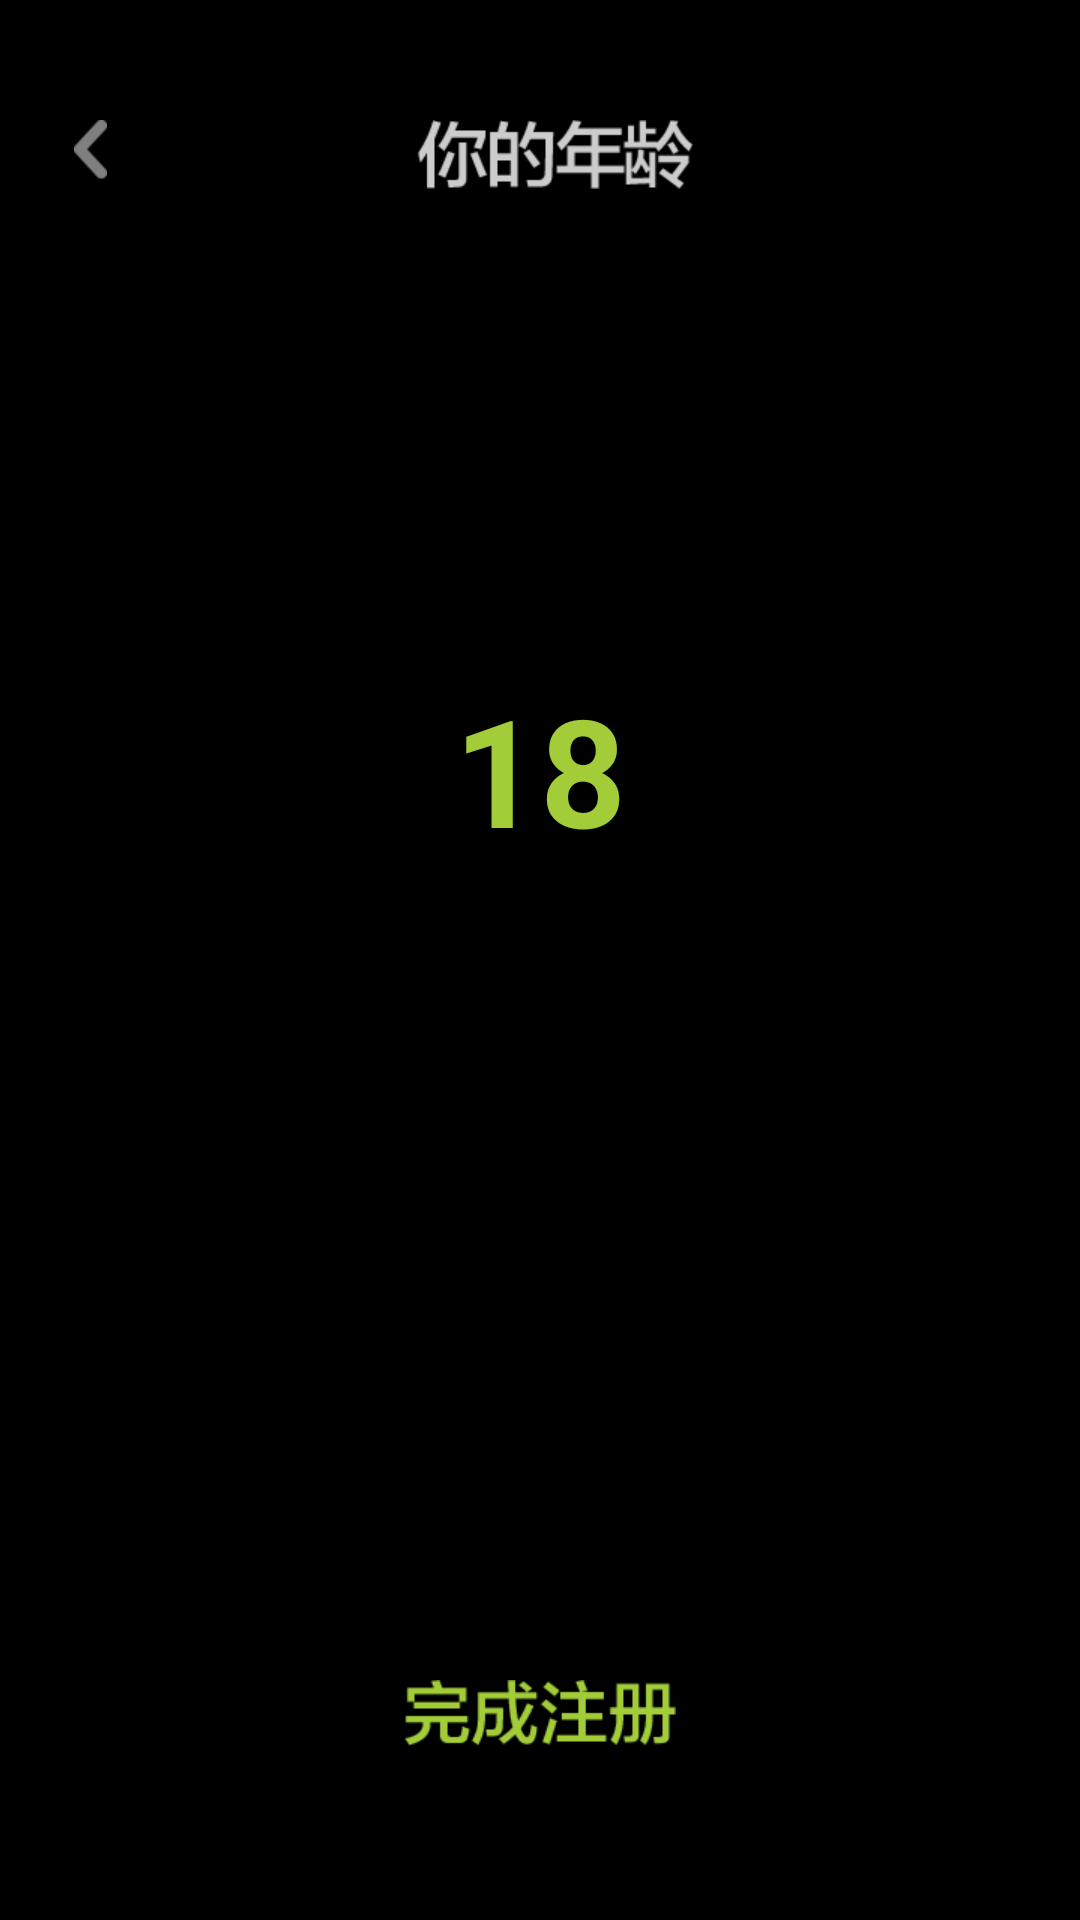

Where icons sit on this 1080x1920 app screen, as (x1, y1, x2, y2):
back: (74, 120, 107, 179)
